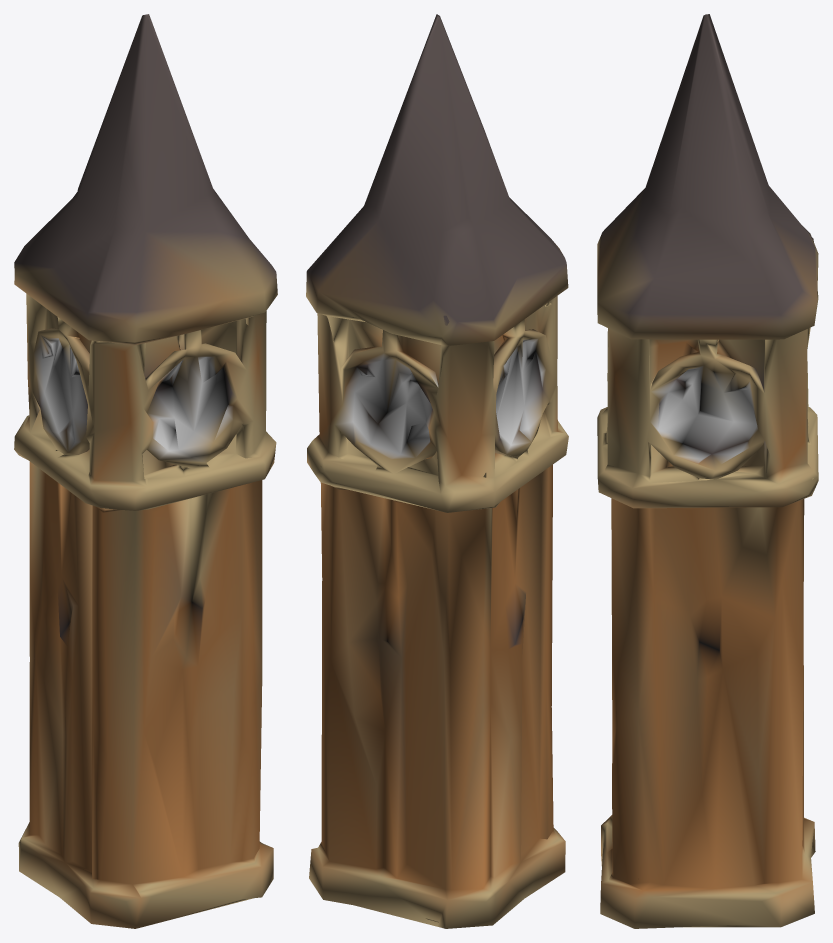
The model's file is gen3d-clock-tower-lod1.glb.
3 renders of one model, left to right at view 1: azimuth 30°, elevation 25°; view 2: azimuth 150°, elevation 25°; view 3: azimuth 270°, elevation 25°, orthographic.
Visible parts, largest first — view 1: part_0; view 2: part_0; view 3: part_0.
Part boxes in pixels (x1=…): part_0: x1=14, y1=14, x2=277, y2=928; part_0: x1=306, y1=14, x2=568, y2=928; part_0: x1=597, y1=14, x2=818, y2=928.
Bounding box in the file's own units: 0.2218 × 0.9973 × 0.2213.
